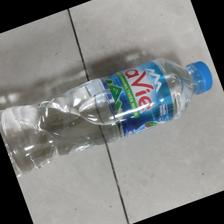Lavie: (1, 58, 215, 179)
